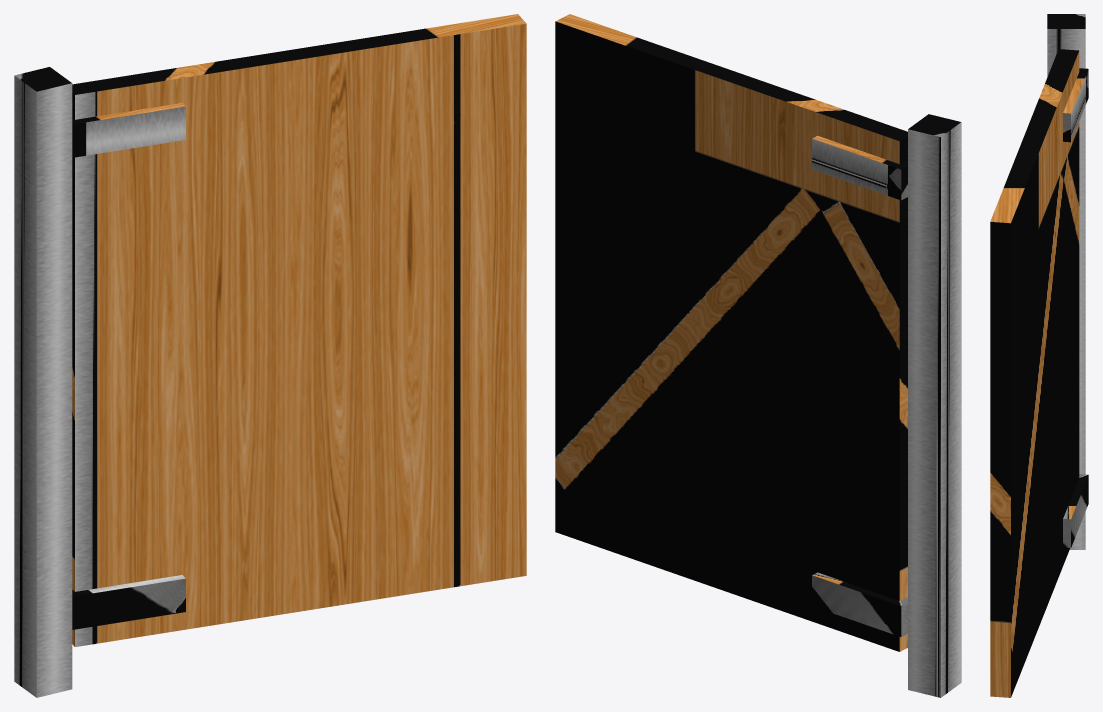
Rendered from anipuerta.fbx.
3 views of the same model, side by side, from view 1: azimuth 30°, elevation 25°; view 2: azimuth 150°, elevation 25°; view 3: azimuth 270°, elevation 25° (orthographic). The views are drawn at different scales.
Visible parts, largest first — view 1: polySurface8; view 2: polySurface8; view 3: polySurface8.
Part boxes in pixels (box(x1,y1,x2,y2)): polySurface8: box(14, 14, 526, 697); polySurface8: box(555, 14, 961, 697); polySurface8: box(990, 14, 1088, 697).
Size of the model in its own units: 4.26 by 5.36 by 0.9189.
Materials: 1 (1 with a texture image).
